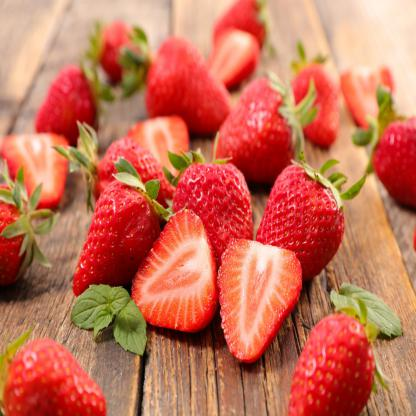strawberry: (72, 175, 159, 302), (259, 164, 346, 281), (133, 208, 214, 333), (219, 238, 301, 360), (172, 158, 252, 263)
